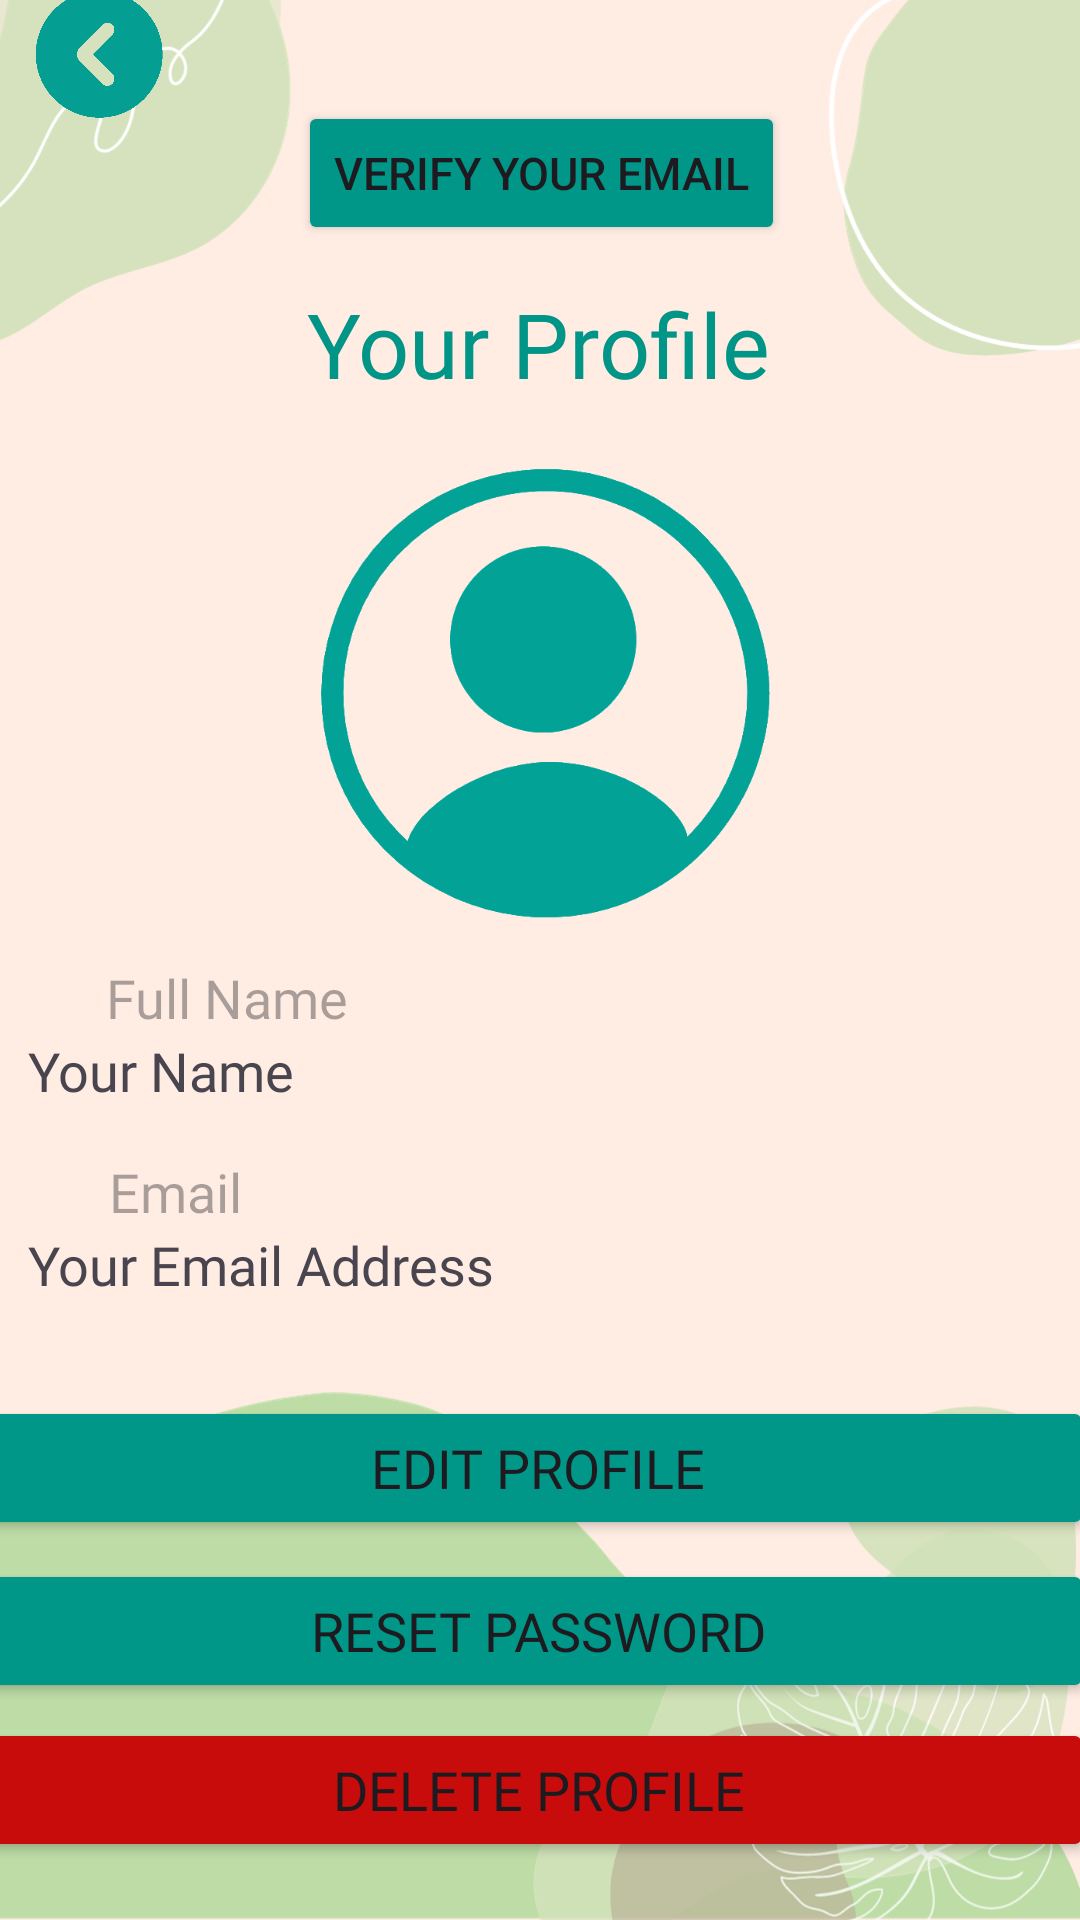

Icon click points for this 1080px x 1920px phone screenshot, format (x=x, y=y):
backicon: (x=100, y=61)
